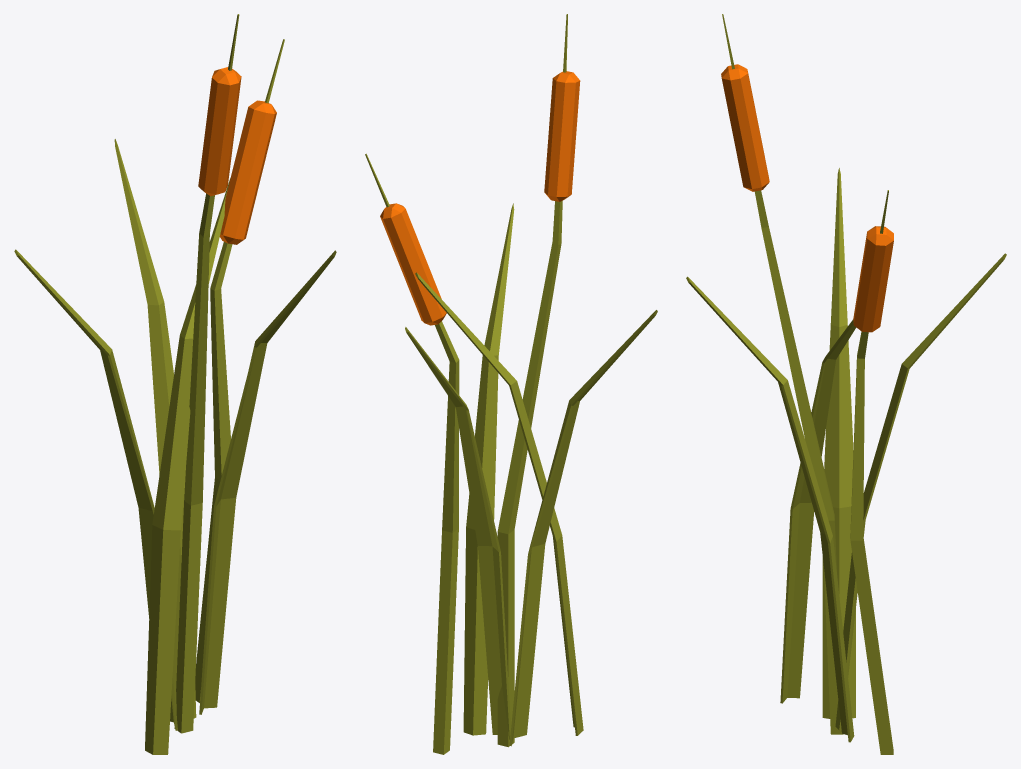
Rendered from Foliage_01.fbx.
3 views of the same model, side by side, from view 1: azimuth 30°, elevation 25°; view 2: azimuth 150°, elevation 25°; view 3: azimuth 270°, elevation 25° (orthographic). The views are drawn at different scales.
Parts seen in each view (by area): view 1: Foliage_01; view 2: Foliage_01; view 3: Foliage_01.
Boxes of the visible parts, x1,y1,x2,y2 form: Foliage_01: (14,14,336,754); Foliage_01: (365,14,657,754); Foliage_01: (686,14,1006,754).
Bounding box in the file's own units: 70.11 × 172 × 70.02.
